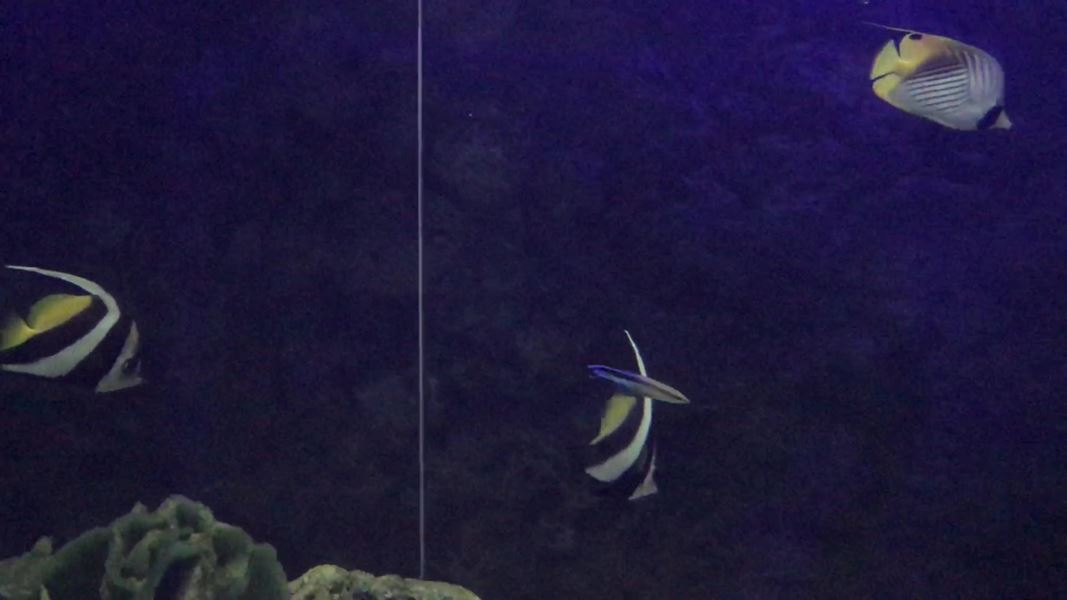Bluesteak cleaner wrasse: (578, 353, 694, 413)
